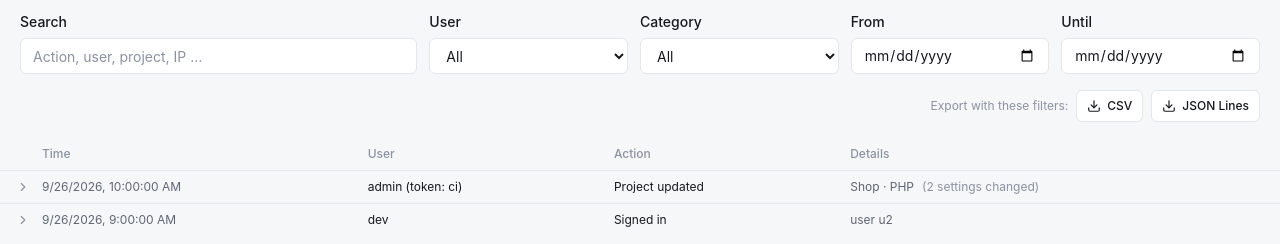
Test: AuditLog › filters by a user when their name is clicked and keeps a project fixed
What coordinates should you click on to do the following:
click the button "admin (token: ci)"
I would click on:
 (415, 187)
Its box is [368,179,462,195].
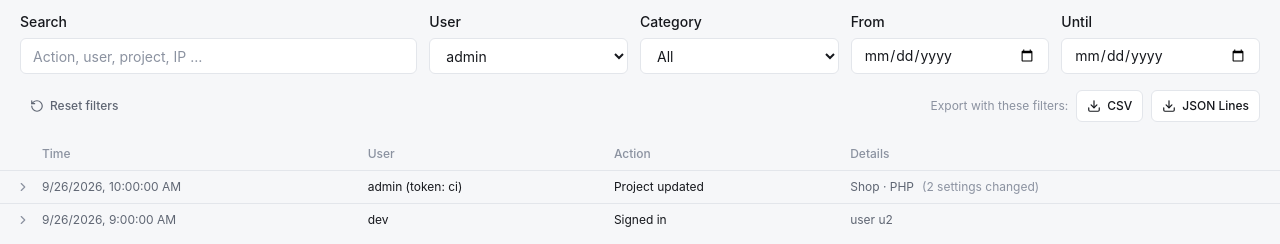
Expected: the dropdown labelled "User" shows "admin", [429,38,628,74]
